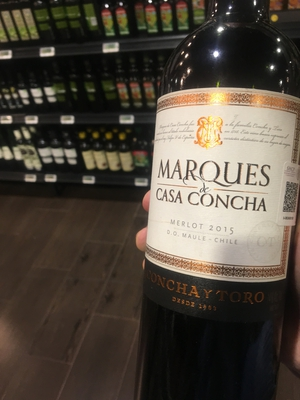marques de casa concha merlot: (142, 12, 300, 354)
